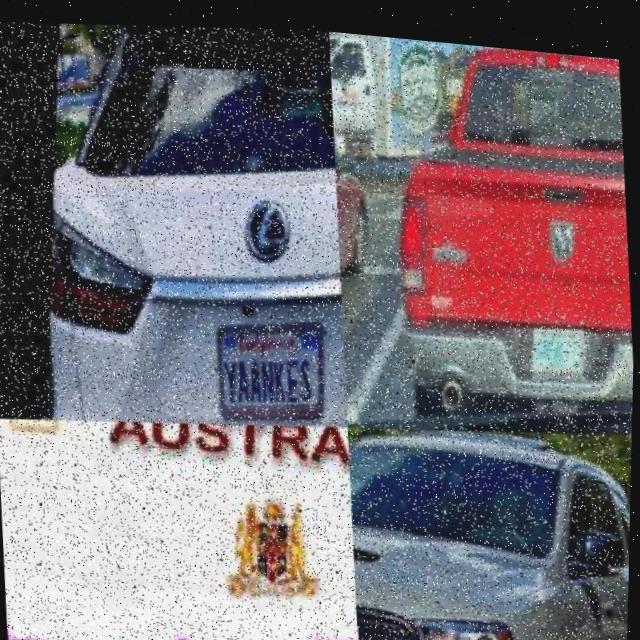LicensePlate: (7, 563, 363, 640), (204, 303, 334, 429), (529, 316, 584, 363)
